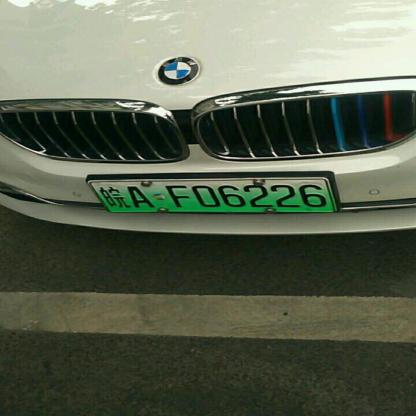lp: (89, 177, 336, 212)
